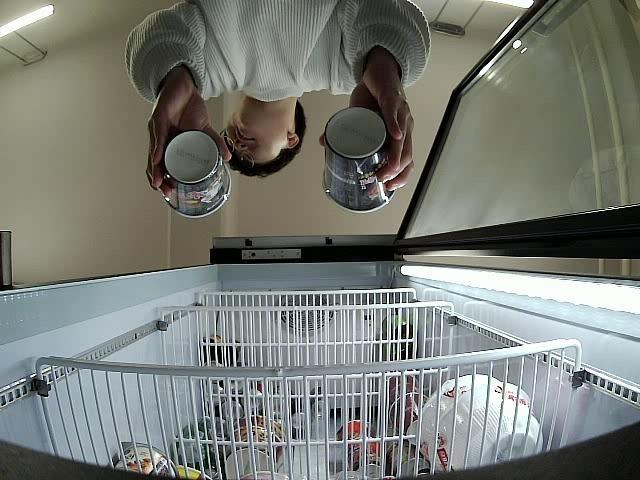08_buldak_S: (322, 106, 398, 210), (157, 131, 232, 220)
